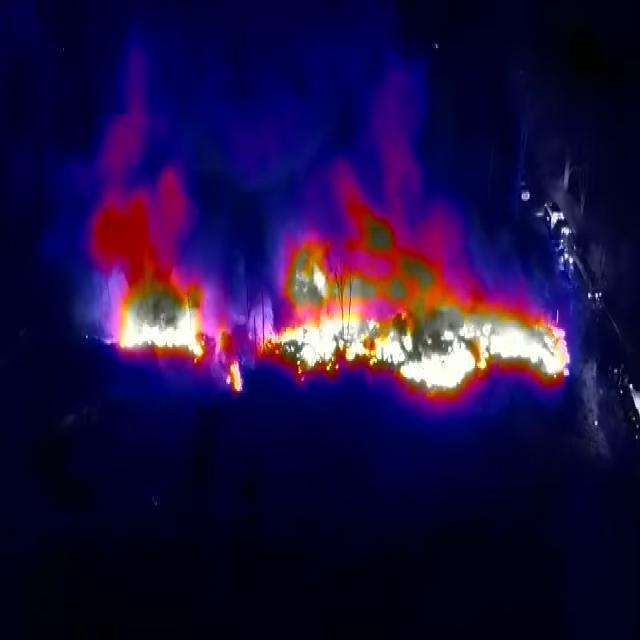fire: (247, 220, 573, 401), (106, 266, 247, 401)
